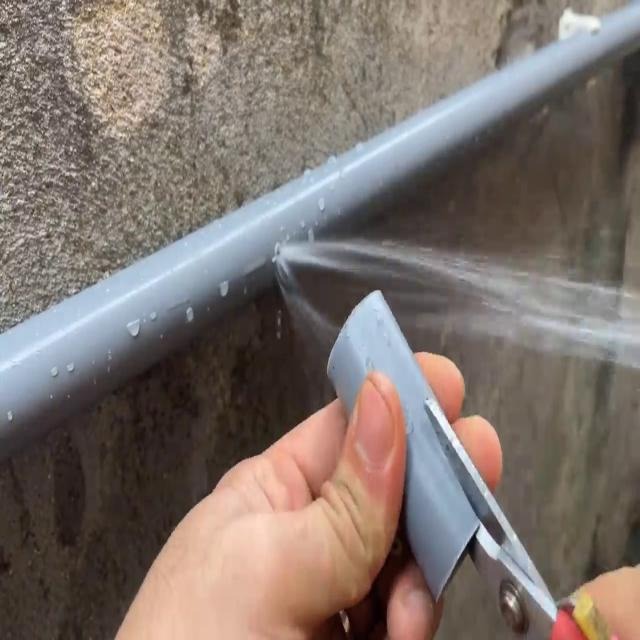leak: (272, 235, 640, 367)
